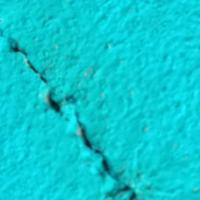crack: (1, 25, 143, 198)
